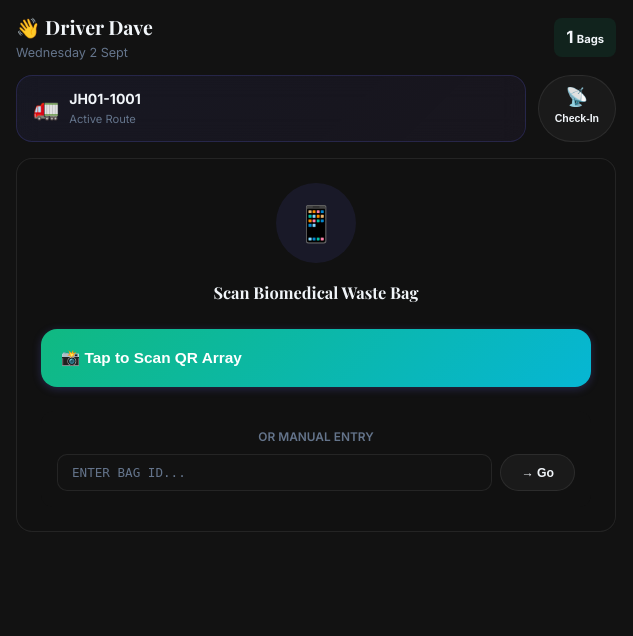
Test case: Driver Home Page Component › When driver has an active route › enforces hospital bed capacity rules during manual lookup
The width and height of the screenshot is (633, 636).
Expected: the text "JH01-1001" is shown, [69,88,141,111]
Type "JH-DHA-HCF0001-Y-20260830-000001" into the field with placeholder "Enter Bag ID...".
click(275, 472); type("JH-DHA-HCF0001-Y-20260830-000001")  # box [57,454,492,491]
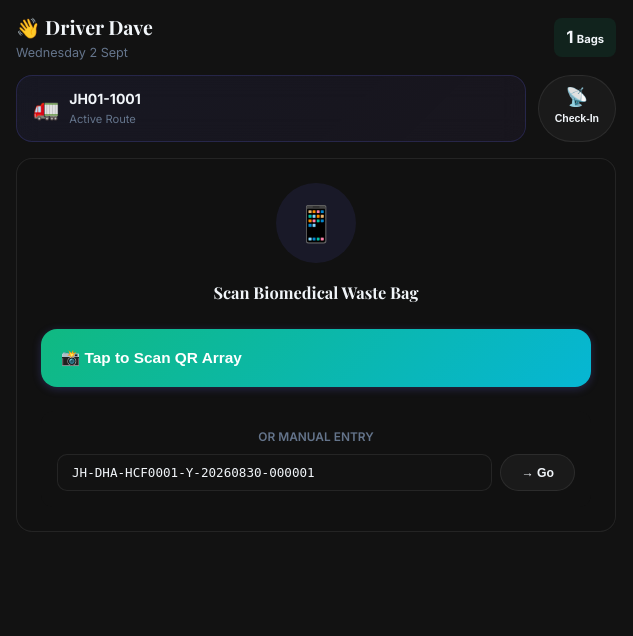
Click the button "→ Go".
click(538, 472)  # box [500,454,575,491]
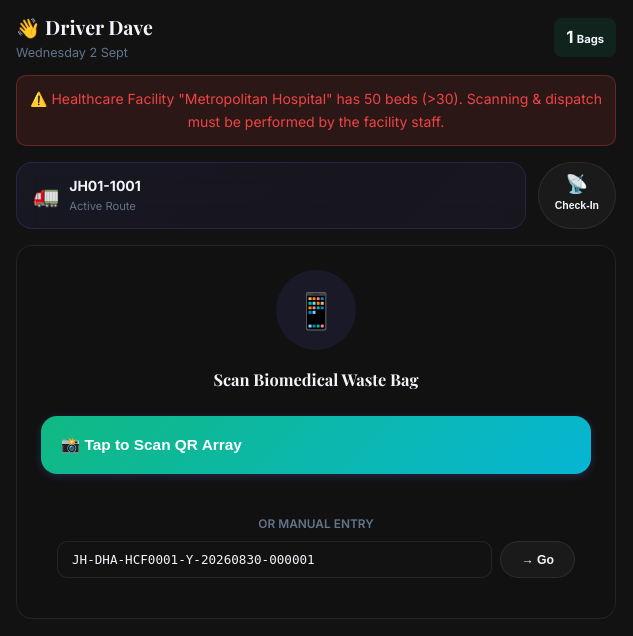
Expected: the text "has 50 beds (>30)" is shown, [30,90,602,130]
